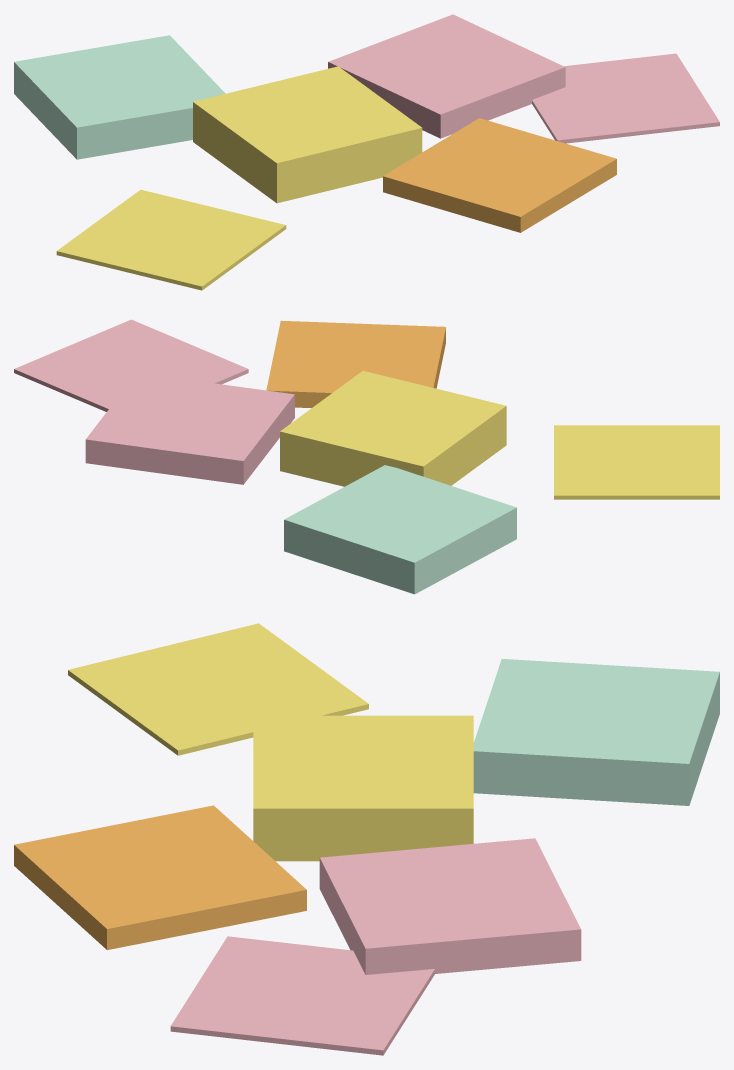
The model's file is prop_sticky_notes_01.glb.
3 renders of one model, top to bottom at view 1: azimuth 30°, elevation 25°; view 2: azimuth 150°, elevation 25°; view 3: azimuth 270°, elevation 25°, orthographic. The views are drawn at different scales.
Visible parts, largest first — view 1: prop_sticky_notes_01_body; view 2: prop_sticky_notes_01_body; view 3: prop_sticky_notes_01_body.
Part boxes in pixels (x1,y1,x2,y2): prop_sticky_notes_01_body: (14,14,719,290); prop_sticky_notes_01_body: (14,319,719,594); prop_sticky_notes_01_body: (14,623,719,1055).
Bounding box in the file's own units: 0.3484 × 0.02 × 0.2434.
